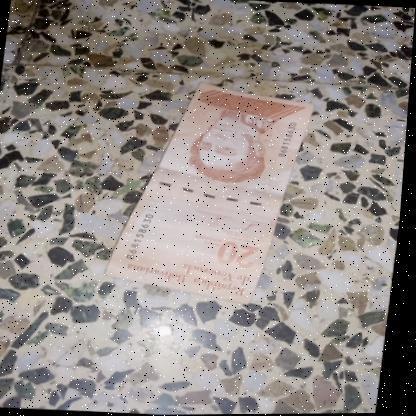vef_front: (105, 77, 318, 308)
